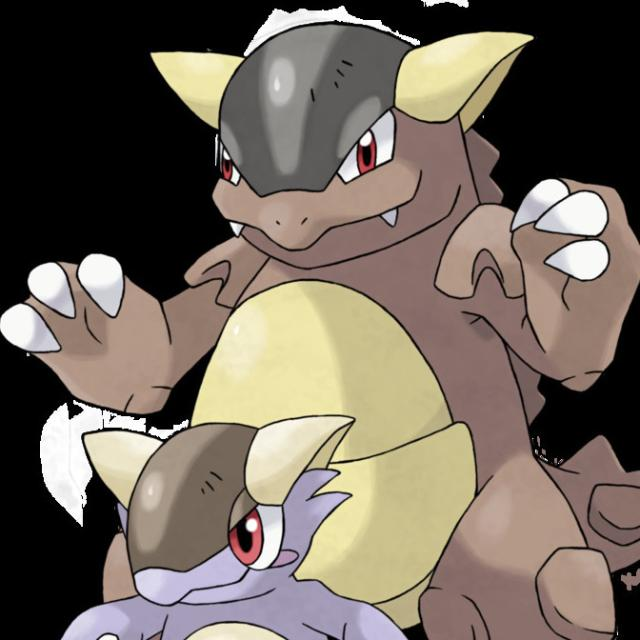Kangaskhan: (70, 22, 614, 640)
